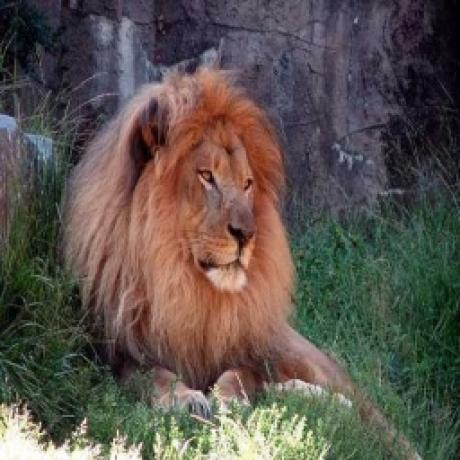Lion: (59, 70, 381, 428)
